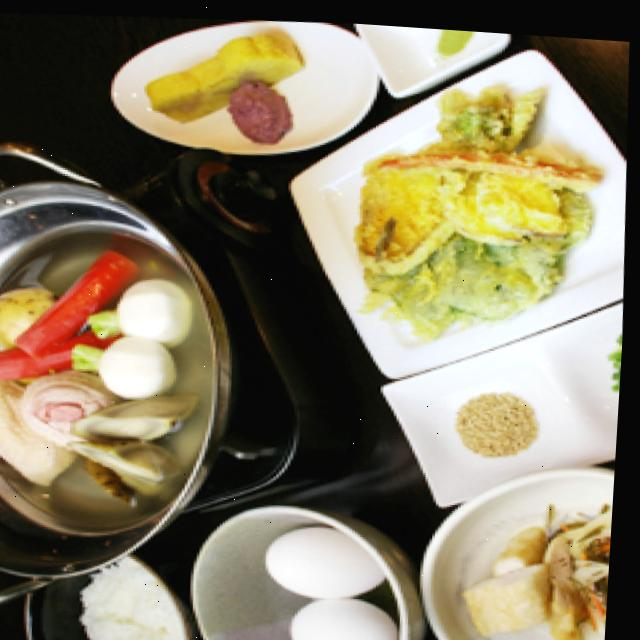蔬菜料理: (289, 67, 638, 372)
